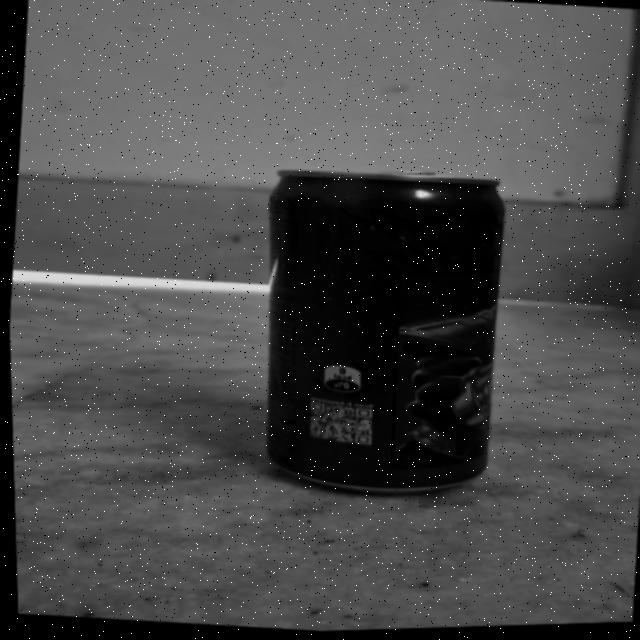Coca Cola Zero: (229, 153, 532, 503)
